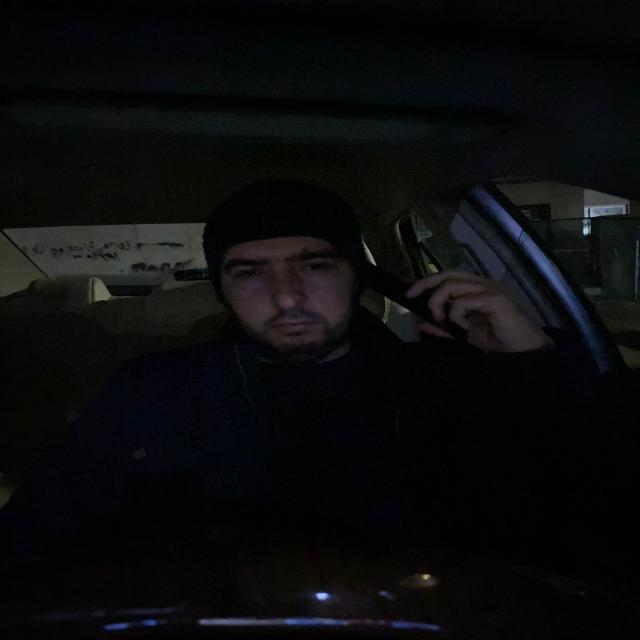mobile: (370, 270, 475, 339)
person: (210, 200, 365, 352)
